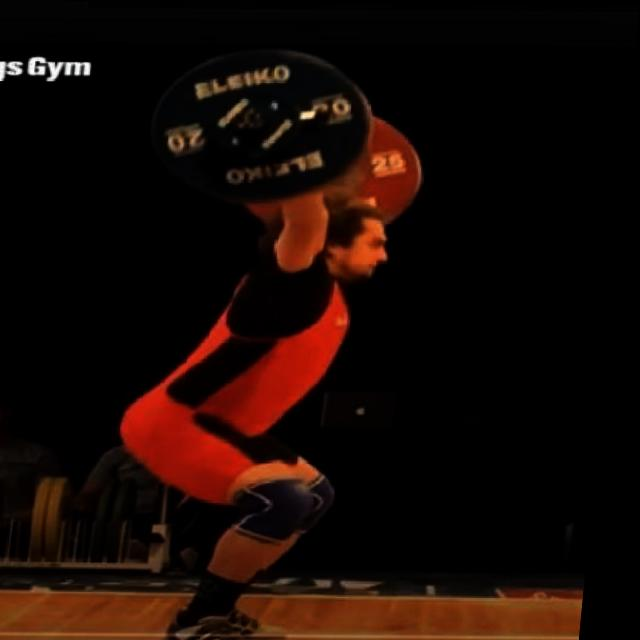barbell: (148, 45, 383, 209)
